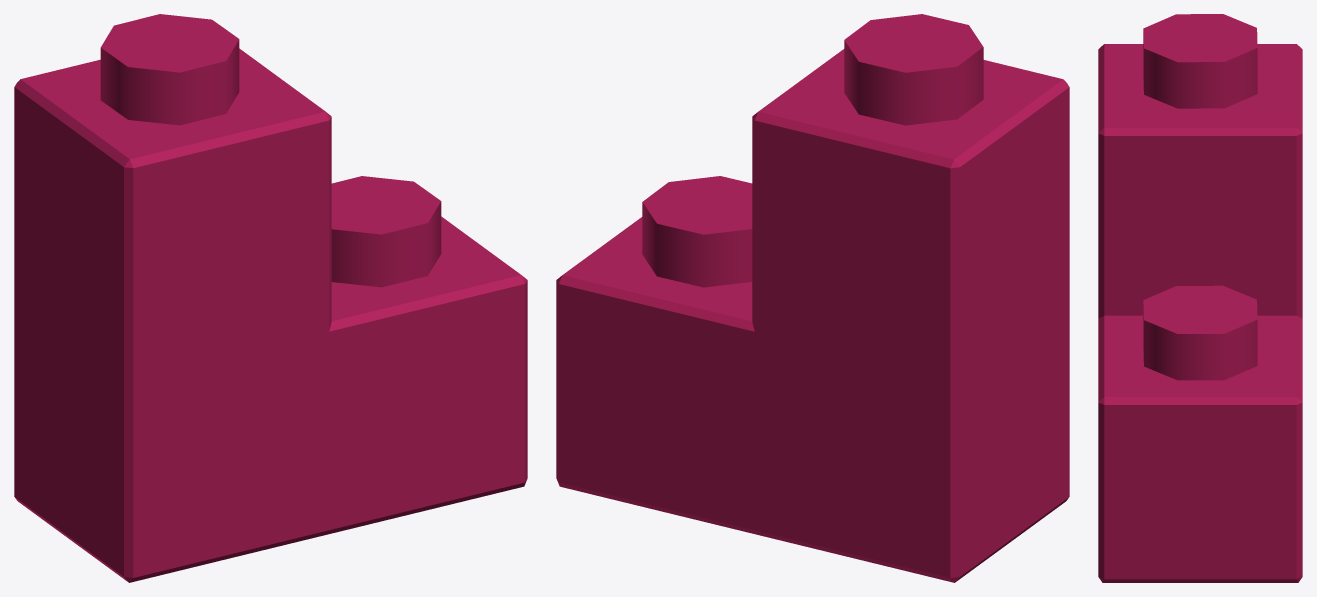
Rendered from Part_2Xup.FBX.
The picture shows the model from 3 angles, left to right: view 1: azimuth 30°, elevation 25°; view 2: azimuth 150°, elevation 25°; view 3: azimuth 270°, elevation 25°; orthographic projection. The views are drawn at different scales.
Parts seen in each view (by area): view 1: Part_2Xup; view 2: Part_2Xup; view 3: Part_2Xup.
Part boxes in pixels (x1,y1,x2,y2): Part_2Xup: [14, 14, 527, 582]; Part_2Xup: [556, 14, 1069, 582]; Part_2Xup: [1098, 14, 1302, 582].
Bounding box in the file's own units: 200 × 100 × 225.
